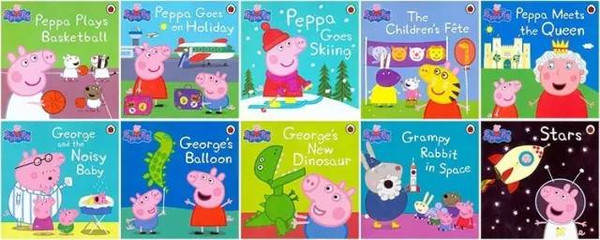Peppa: (259, 22, 314, 109), (5, 44, 60, 122), (183, 169, 234, 234), (129, 40, 173, 108), (489, 78, 521, 119), (454, 200, 475, 234)
